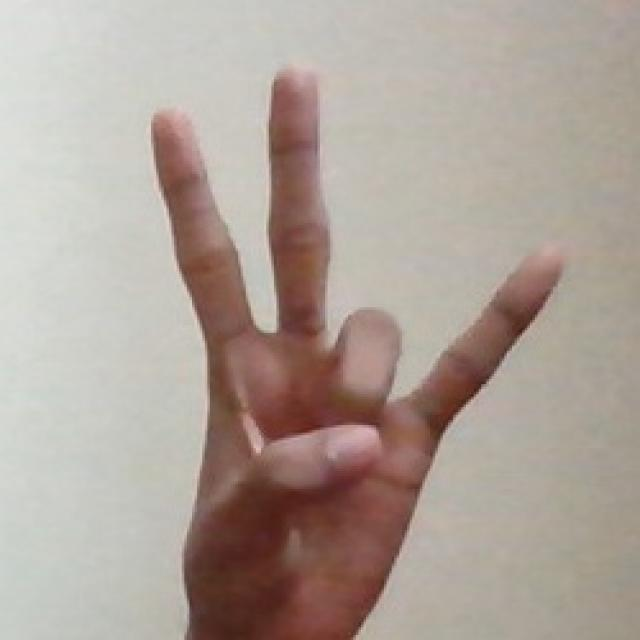Numeric-7: (144, 59, 569, 640)
